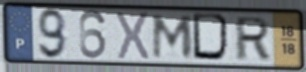6: (78, 9, 109, 61)
9: (36, 7, 70, 61)
D: (191, 12, 234, 65)
M: (151, 13, 195, 60)
R: (233, 16, 273, 63)
X: (114, 10, 152, 63)
